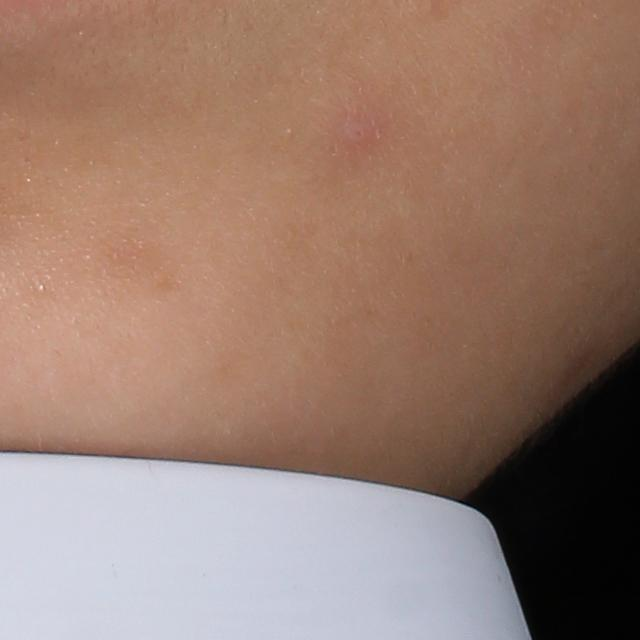comedo: (34, 280, 47, 294)
papule: (330, 109, 374, 151)
